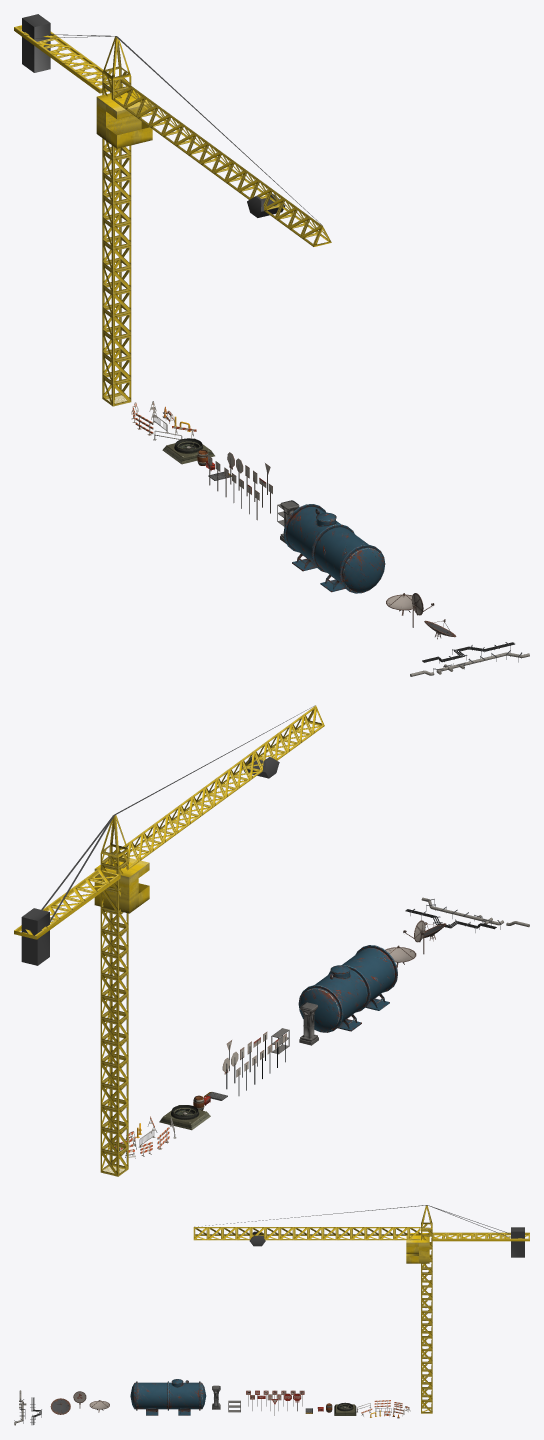
File: building rooftop props.fbx
The picture shows the model from 3 angles, top to bottom: view 1: azimuth 30°, elevation 25°; view 2: azimuth 150°, elevation 25°; view 3: azimuth 270°, elevation 25°; orthographic projection. The views are drawn at different scales.
Visible parts, largest first — view 1: Cube, tank_pressured, Cube.001, Cube.003, Cube.002, Cube.004, pCube6; view 2: Cube, tank_pressured, Cube.001, Cube.003, Cube.002, Cube.004, pCube6, Plane, defaultMaterial.002; view 3: Cube.001, tank_pressured, Cube, Cube.002, Cube.003, Cube.004, Plane, pCube6, Object001__0.003.
Part boxes in pixels (left/top/right/bottom): Cube: left=102, top=36, right=131, bottom=406; tank_pressured: left=283, top=504, right=385, bottom=593; Cube.001: left=113, top=79, right=331, bottom=246; Cube.003: left=96, top=90, right=152, bottom=148; Cube.002: left=14, top=25, right=123, bottom=93; Cube.004: left=22, top=14, right=50, bottom=72; pCube6: left=162, top=438, right=214, bottom=464; Cube: left=100, top=815, right=128, bottom=1176; tank_pressured: left=298, top=945, right=397, bottom=1032; Cube.001: left=112, top=705, right=324, bottom=869; Cube.003: left=94, top=856, right=149, bottom=913; Cube.002: left=14, top=869, right=120, bottom=939; Cube.004: left=21, top=908, right=49, bottom=965; pCube6: left=159, top=1105, right=210, bottom=1130; Plane: left=41, top=705, right=315, bottom=922; defaultMaterial.002: left=299, top=1002, right=318, bottom=1045; Cube.001: left=193, top=1227, right=420, bottom=1240; tank_pressured: left=130, top=1379, right=206, bottom=1415; Cube: left=421, top=1205, right=432, bottom=1413; Cube.002: left=432, top=1232, right=529, bottom=1241; Cube.003: left=406, top=1233, right=429, bottom=1263; Cube.004: left=511, top=1227, right=524, bottom=1257; Plane: left=194, top=1205, right=510, bottom=1237; pCube6: left=334, top=1402, right=356, bottom=1415; Object001__0.003: left=50, top=1398, right=70, bottom=1414.
Size of the model in its own units: 1255 by 3861 by 8662.
